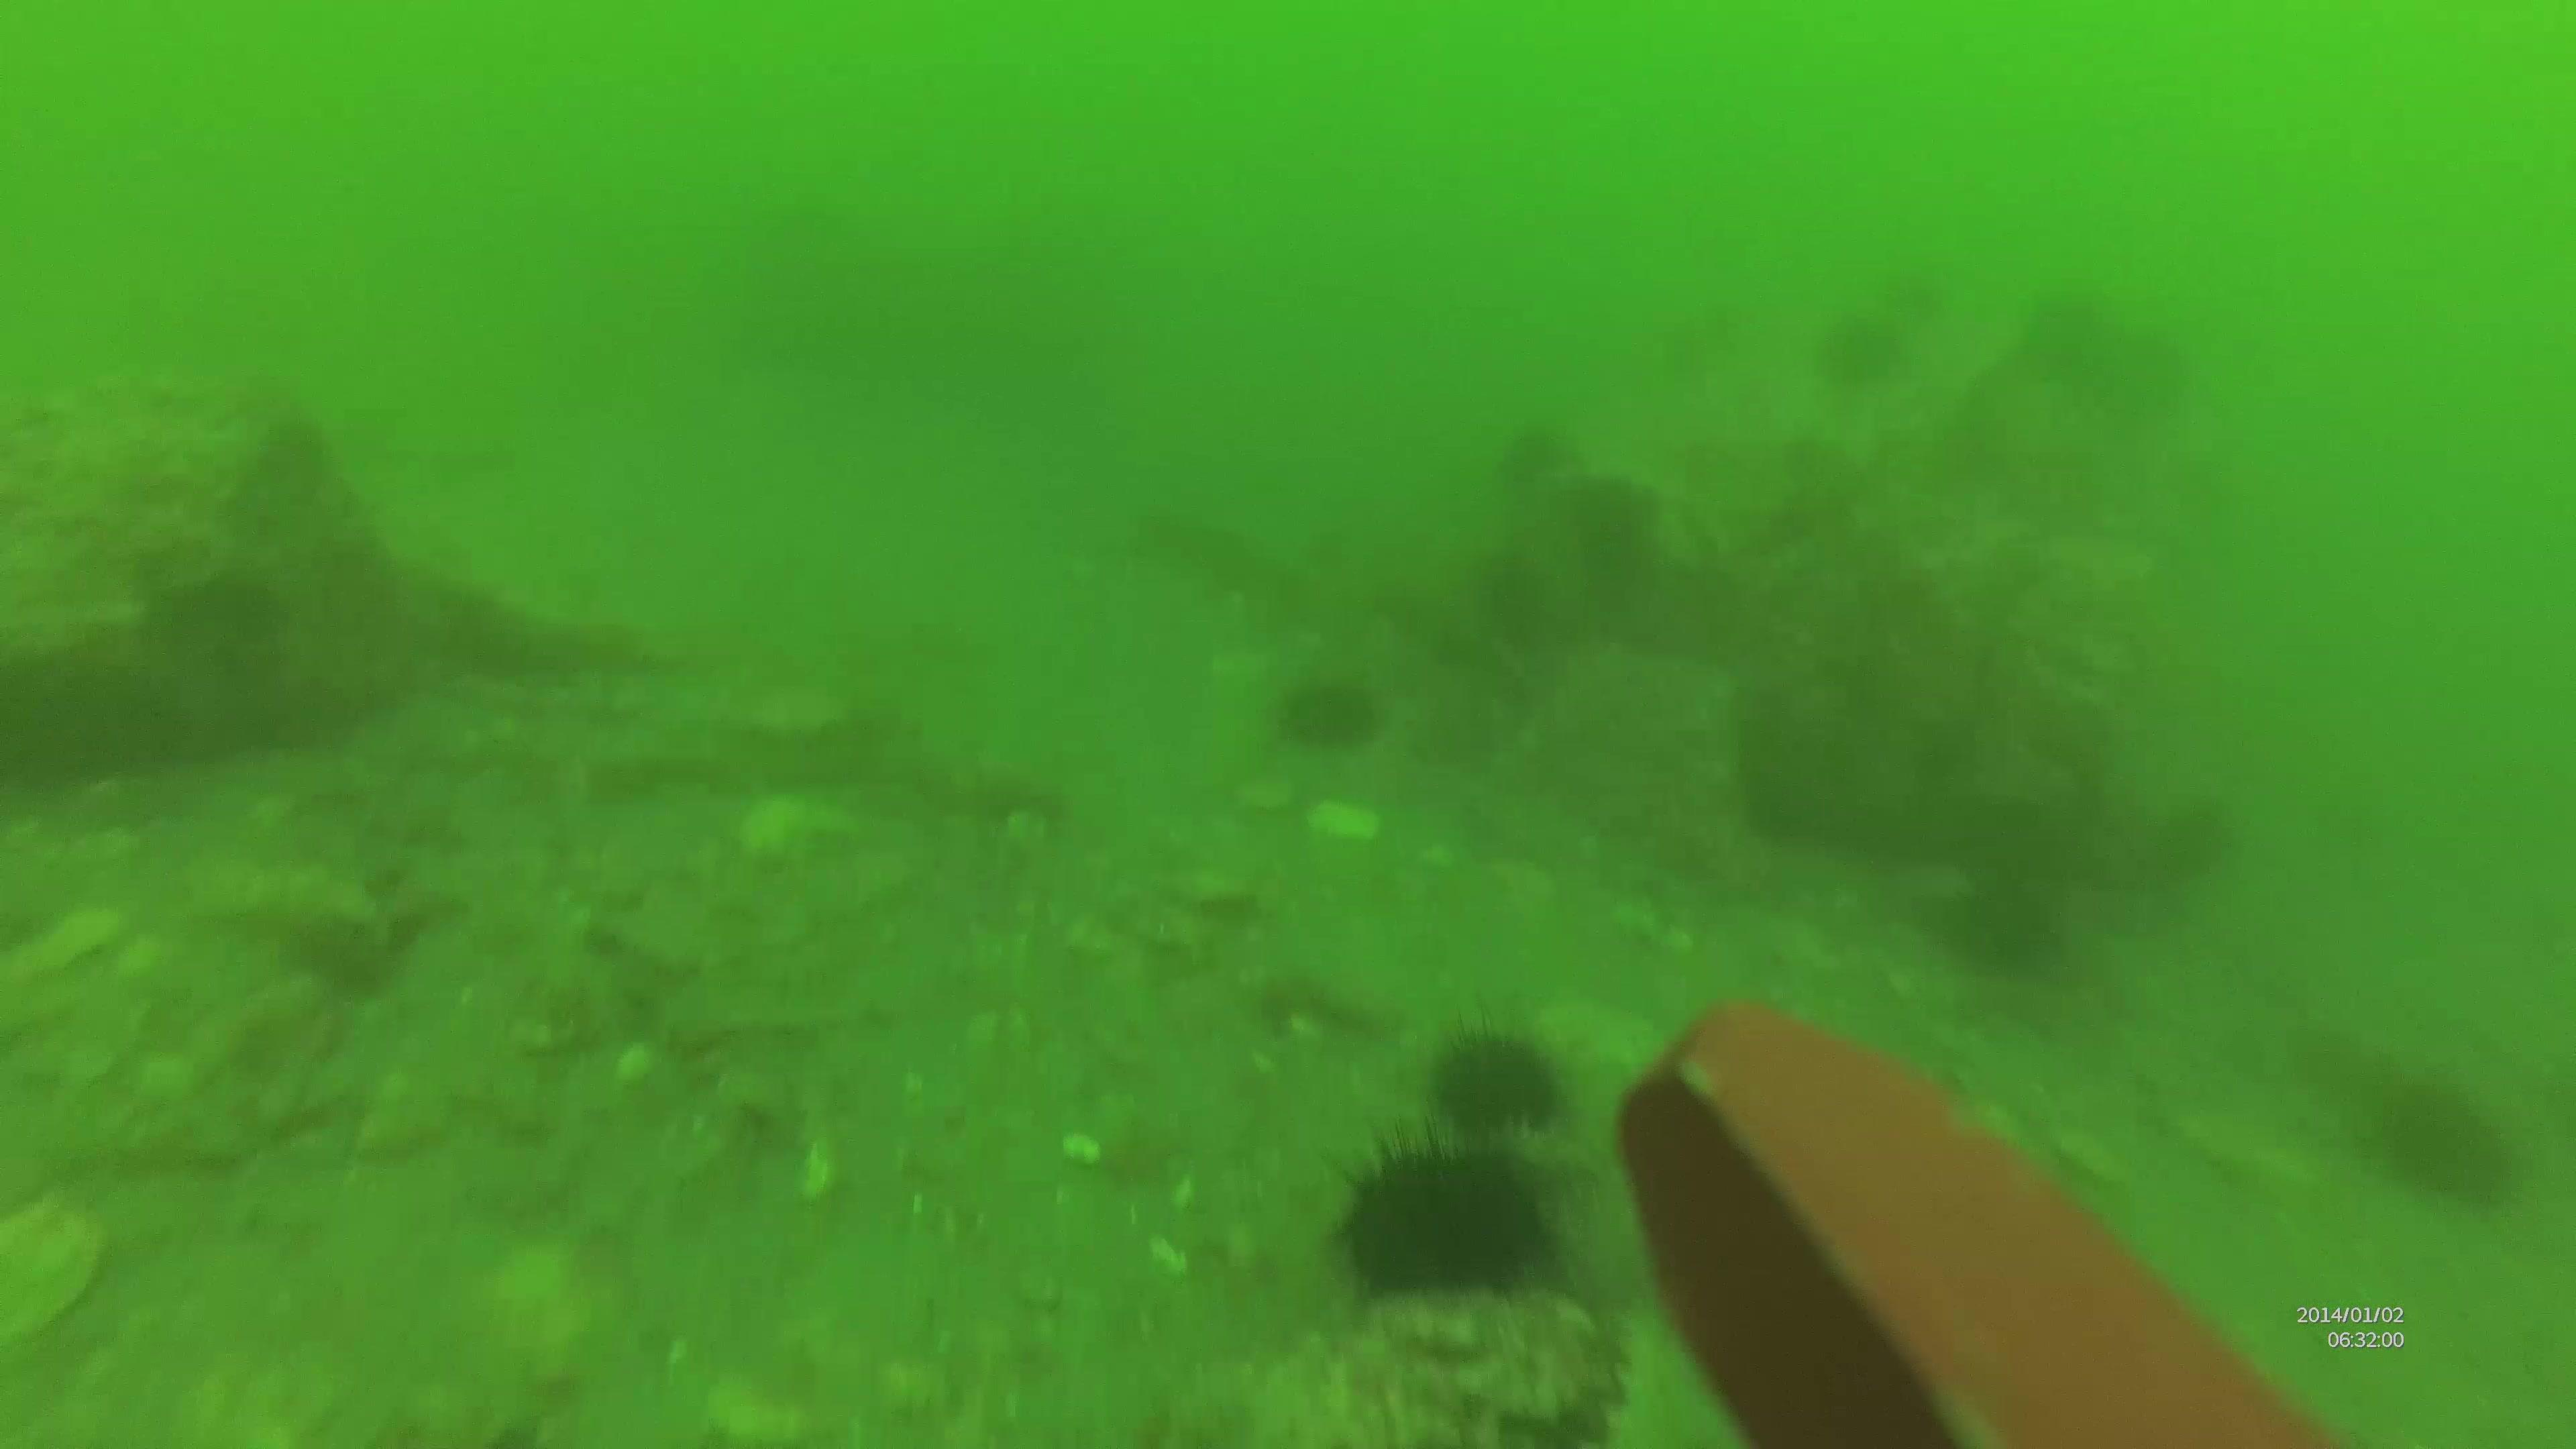echinus: (1332, 1127, 1552, 1293), (2378, 1076, 2523, 1214), (1417, 1005, 1557, 1127), (1959, 851, 2075, 971), (1277, 674, 1389, 757)
